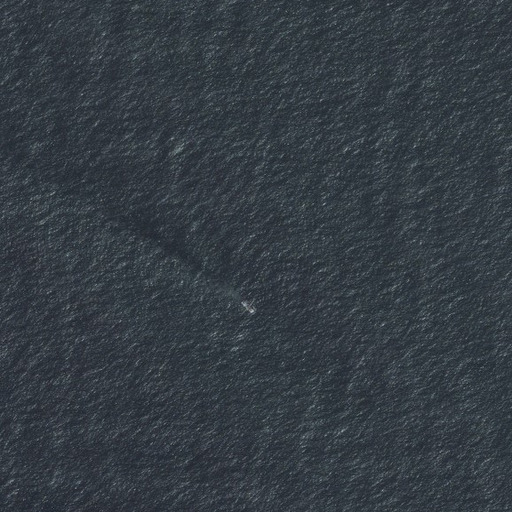ship: (237, 295, 258, 318)
